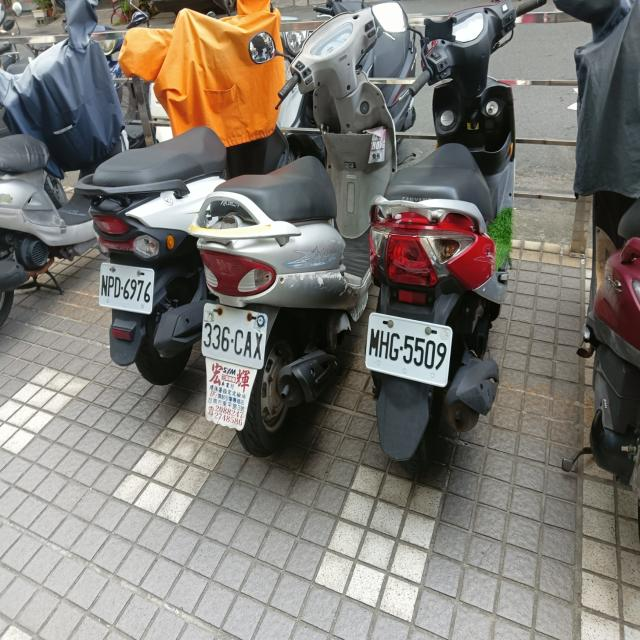license-plate: (366, 316, 450, 386), (202, 304, 266, 367), (100, 260, 153, 316)
